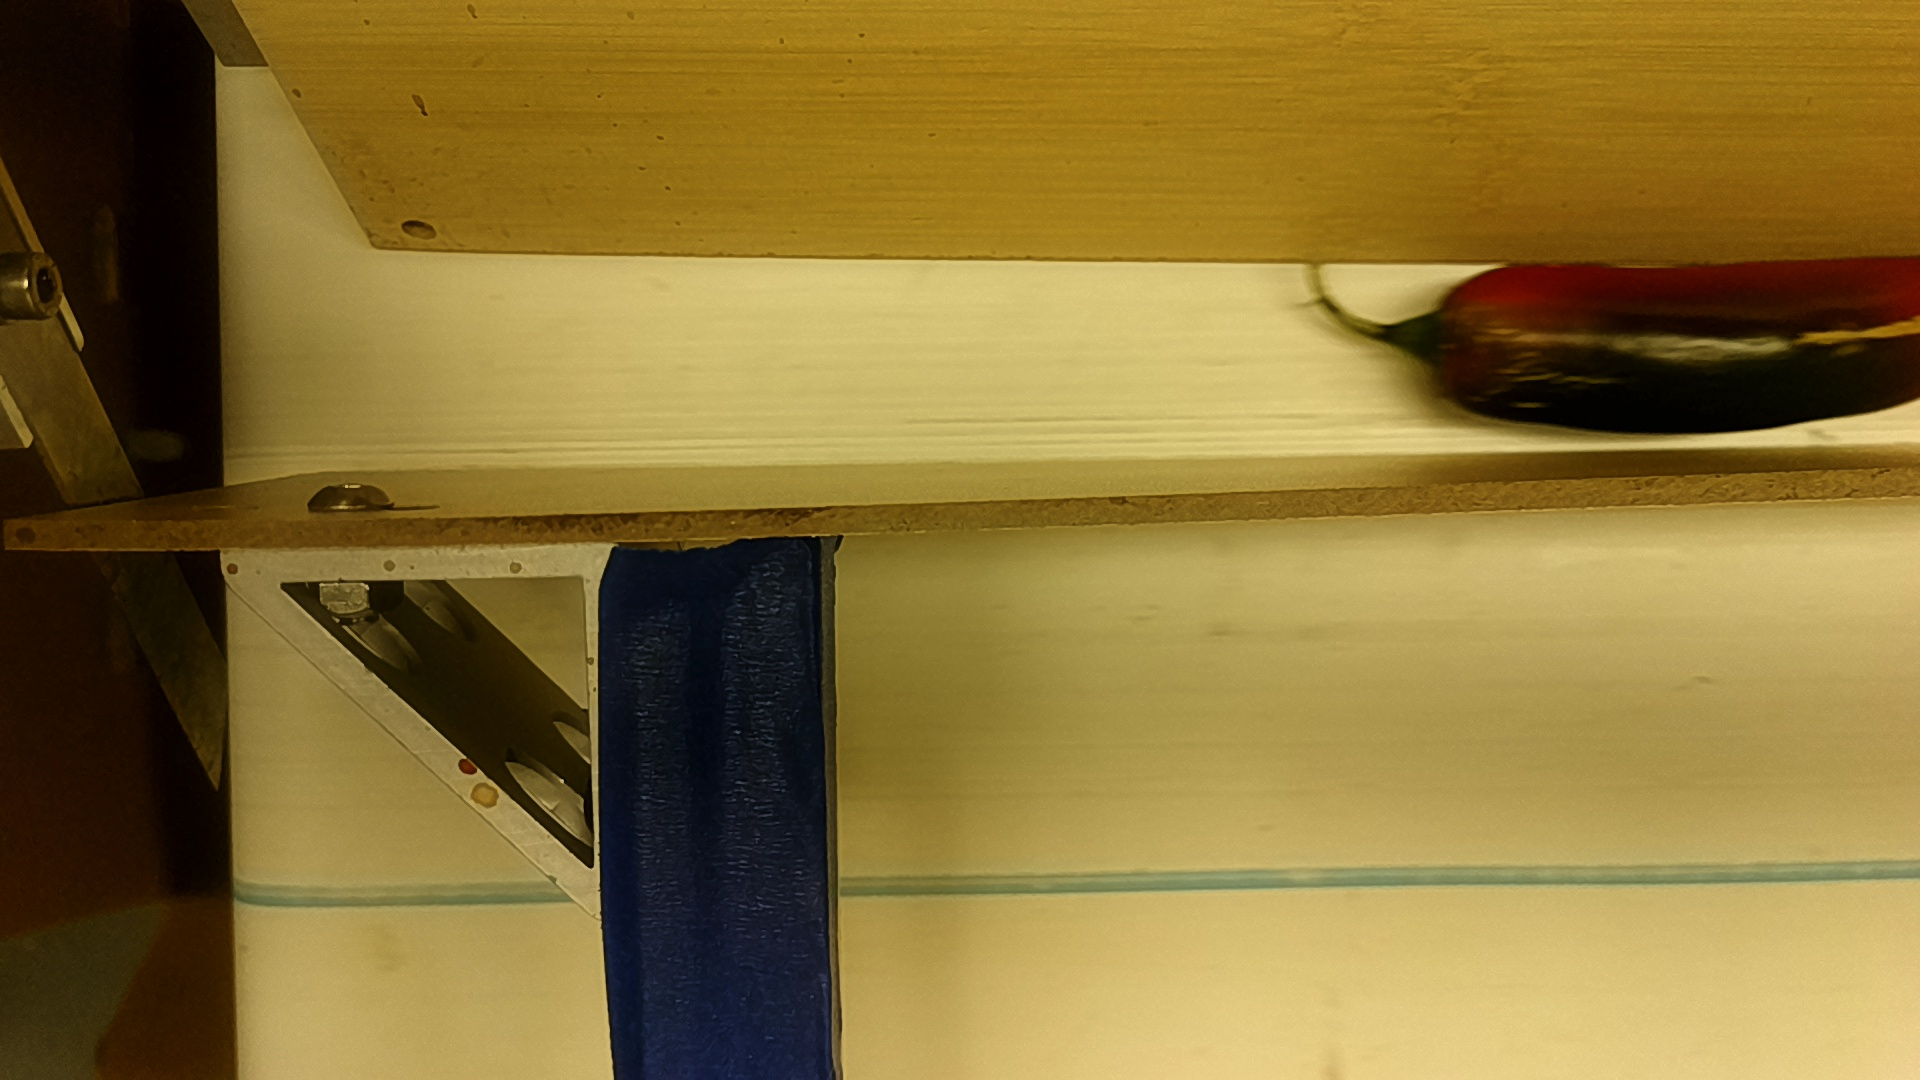Cut Point: (1408, 272, 1484, 415)
